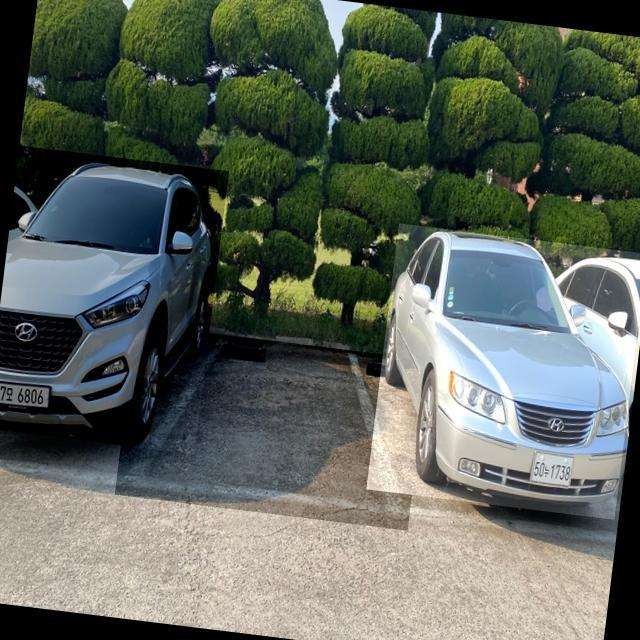empty: (115, 339, 409, 519)
occupied: (365, 223, 640, 519), (0, 145, 228, 453)
